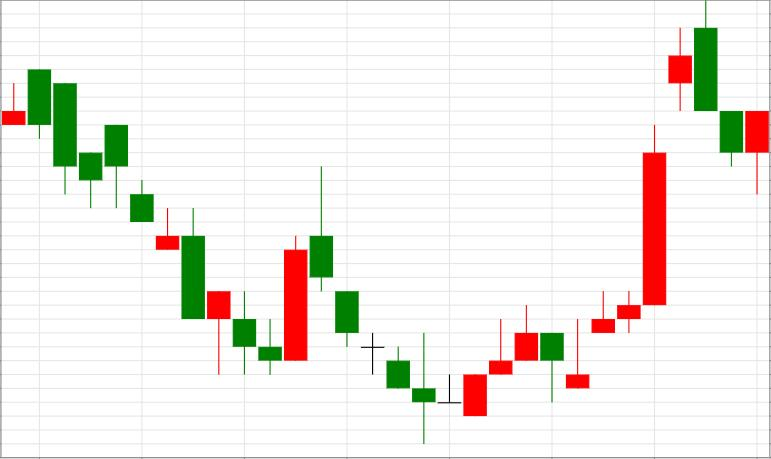bearish_engulfing_fall: (566, 1, 718, 388)
hammer_rise: (28, 69, 231, 375)
three_white_soldiers_rise: (309, 166, 538, 444)
